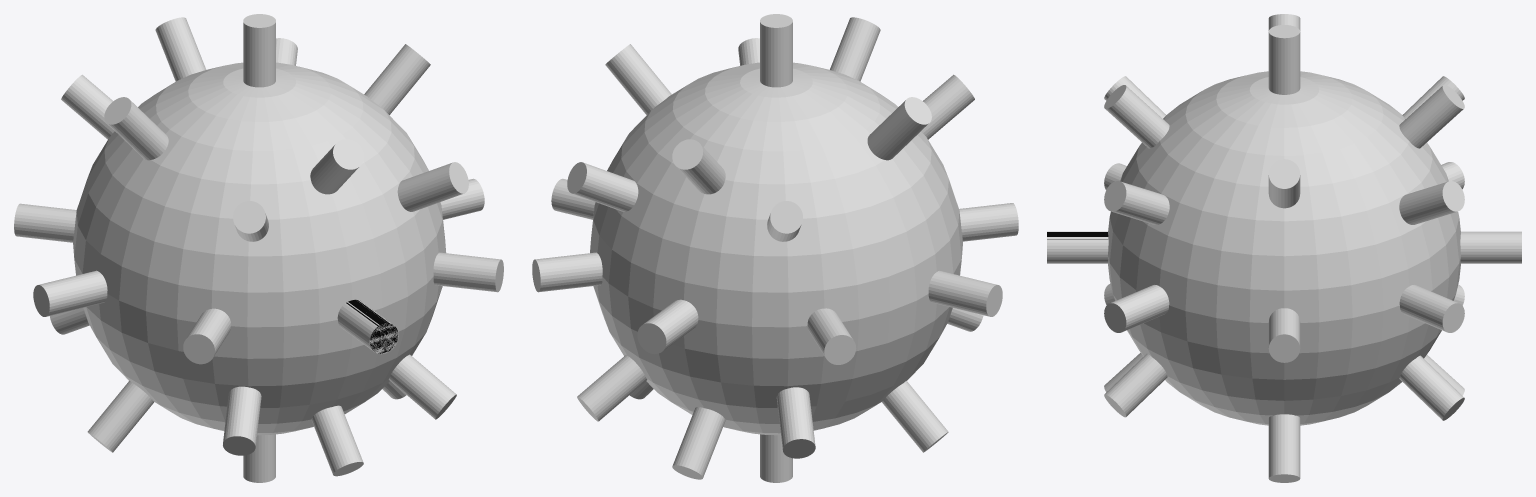
The model's file is Mine.glb.
3 views of the same model, side by side, from view 1: azimuth 30°, elevation 25°; view 2: azimuth 150°, elevation 25°; view 3: azimuth 270°, elevation 25° (orthographic). The views are drawn at different scales.
Visible parts, largest first — view 1: Sphere, Cylinder.015, Cylinder.007, Cylinder.012, Cylinder.019, Cylinder.024, Cylinder.016, Cylinder.005, Cylinder.021, Cylinder.023, Cylinder.026, Cylinder.009 (+11 smaller); view 2: Sphere, Cylinder.015, Cylinder.007, Cylinder.006, Cylinder.013, Cylinder.018, Cylinder.022, Cylinder.024, Cylinder.025, Cylinder.016, Cylinder.023, Cylinder.003 (+11 smaller); view 3: Sphere, Cylinder.007, Cylinder.031, Cylinder.002, Cylinder.003, Cylinder.025, Cylinder.026, Cylinder.013, Cylinder.012, Cylinder.019, Cylinder.018, Cylinder.008 (+7 smaller).
Part boxes in pixels (x1,y1,x2,y2): Sphere: [73, 62, 446, 435]; Cylinder.015: [33, 270, 107, 316]; Cylinder.007: [243, 14, 275, 87]; Cylinder.012: [433, 252, 503, 292]; Cylinder.019: [397, 162, 468, 211]; Cylinder.024: [104, 97, 168, 160]; Cylinder.016: [87, 380, 153, 452]; Cylinder.005: [311, 405, 363, 476]; Cylinder.021: [223, 386, 261, 455]; Cylinder.023: [364, 44, 430, 114]; Cylinder.026: [389, 354, 456, 419]; Cylinder.009: [14, 203, 76, 242]; Sphere: [590, 62, 962, 435]; Cylinder.015: [928, 270, 1002, 316]; Cylinder.007: [760, 14, 792, 87]; Cylinder.006: [672, 407, 725, 479]; Cylinder.013: [532, 252, 602, 292]; Cylinder.018: [567, 162, 638, 211]; Cylinder.022: [776, 387, 815, 458]; Cylinder.024: [867, 97, 931, 160]; Cylinder.025: [577, 355, 647, 421]; Cylinder.016: [882, 381, 948, 452]; Cylinder.023: [605, 44, 671, 115]; Cylinder.003: [830, 17, 880, 81]; Sphere: [1108, 71, 1460, 425]; Cylinder.007: [1268, 25, 1300, 94]; Cylinder.031: [1268, 414, 1300, 482]; Cylinder.002: [1399, 85, 1464, 148]; Cylinder.003: [1104, 85, 1169, 148]; Cylinder.025: [1399, 355, 1464, 420]; Cylinder.026: [1104, 353, 1167, 417]; Cylinder.013: [1399, 285, 1464, 332]; Cylinder.012: [1104, 285, 1169, 332]; Cylinder.019: [1104, 181, 1169, 224]; Cylinder.018: [1399, 181, 1464, 224]; Cylinder.008: [1268, 308, 1300, 362].
Bounding box in the file's own units: 2.68 × 2.68 × 2.66.
1 material, 1 textured.
